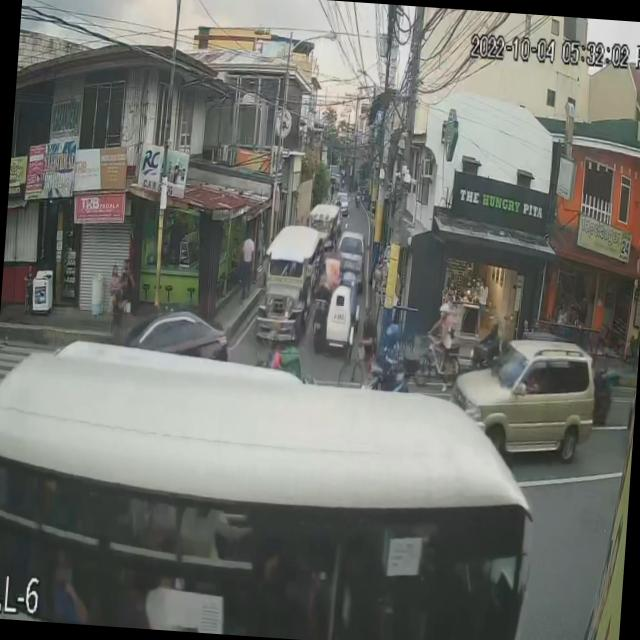half: (383, 322, 400, 350)
